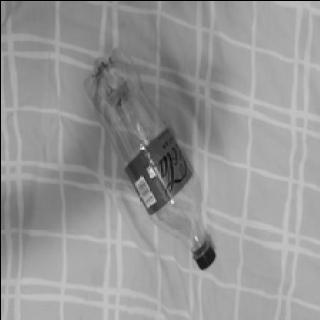plastic_bottles: (76, 50, 218, 270)
